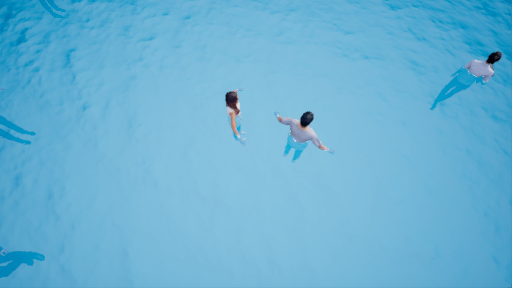person: (436, 42, 505, 111), (276, 95, 330, 173), (209, 76, 253, 145)
